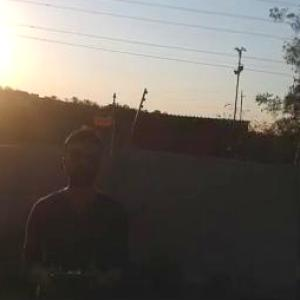follow: (17, 120, 137, 299)
